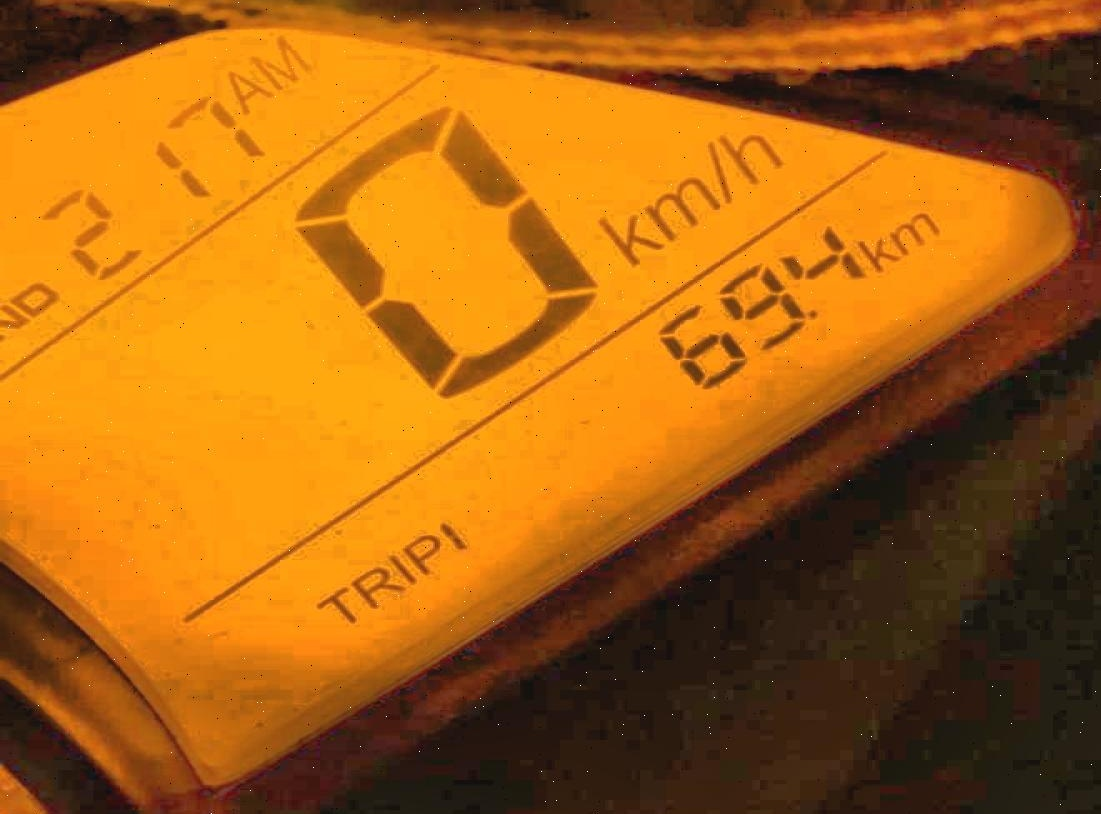-: (801, 307, 818, 324)
0: (293, 104, 596, 397)
1: (148, 141, 206, 201), (436, 522, 463, 548)
2: (38, 187, 136, 278)
4: (780, 224, 861, 287)
6: (656, 304, 743, 390)
7: (165, 94, 261, 157)
9: (716, 263, 801, 348)
X: (643, 176, 716, 240), (718, 130, 778, 185), (598, 214, 661, 264), (251, 36, 306, 87), (889, 211, 938, 256), (351, 567, 401, 608), (223, 70, 266, 111), (705, 138, 731, 203), (10, 282, 56, 315), (403, 534, 438, 574), (316, 587, 353, 624), (860, 237, 896, 272), (0, 306, 25, 338), (388, 555, 413, 584)
